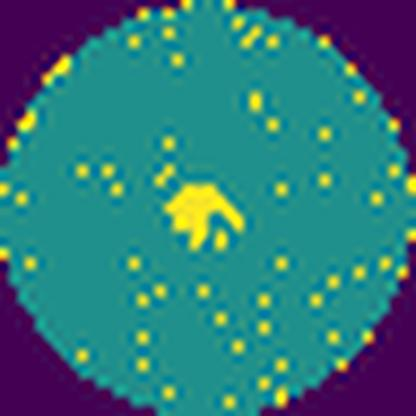Center: (173, 179, 245, 252)
